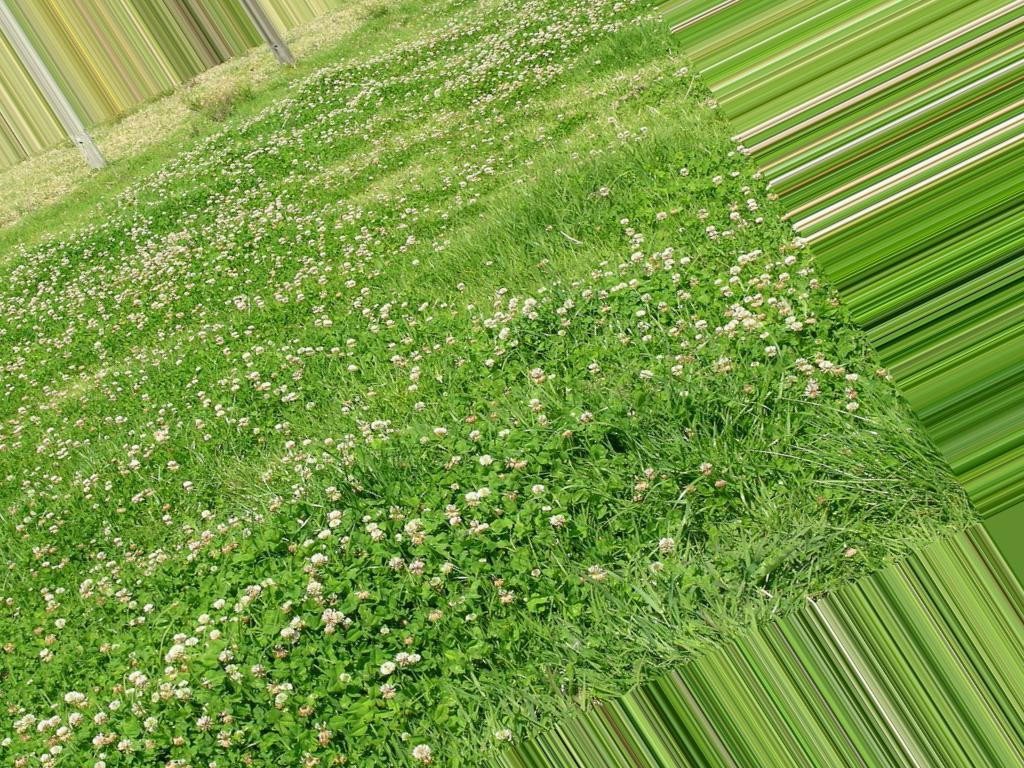patch: (115, 105, 233, 140), (15, 155, 63, 197)
